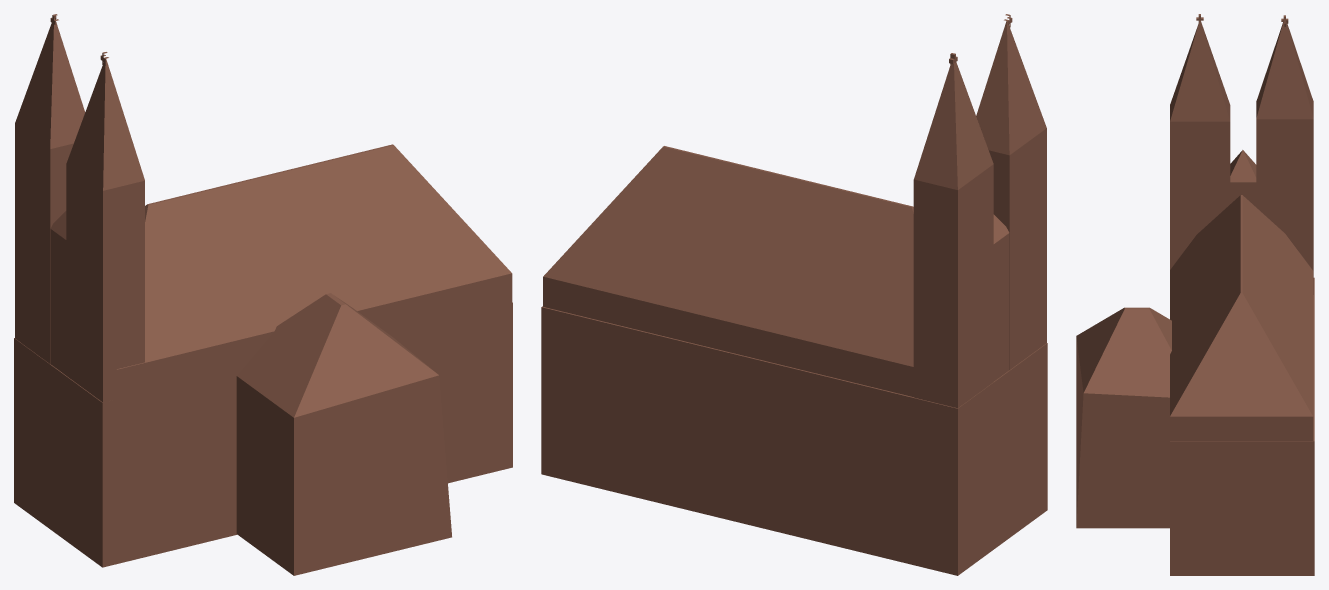
The model's file is dom.fbx.
3 views of the same model, side by side, from view 1: azimuth 30°, elevation 25°; view 2: azimuth 150°, elevation 25°; view 3: azimuth 270°, elevation 25° (orthographic). The views are drawn at different scales.
Visible parts, largest first — view 1: Cube.004; view 2: Cube.004; view 3: Cube.004.
Part boxes in pixels (x1,y1,x2,y2): Cube.004: [14, 14, 512, 575]; Cube.004: [541, 14, 1047, 575]; Cube.004: [1076, 14, 1314, 575].
Size of the model in its own units: 2156 by 2493 by 1326.
